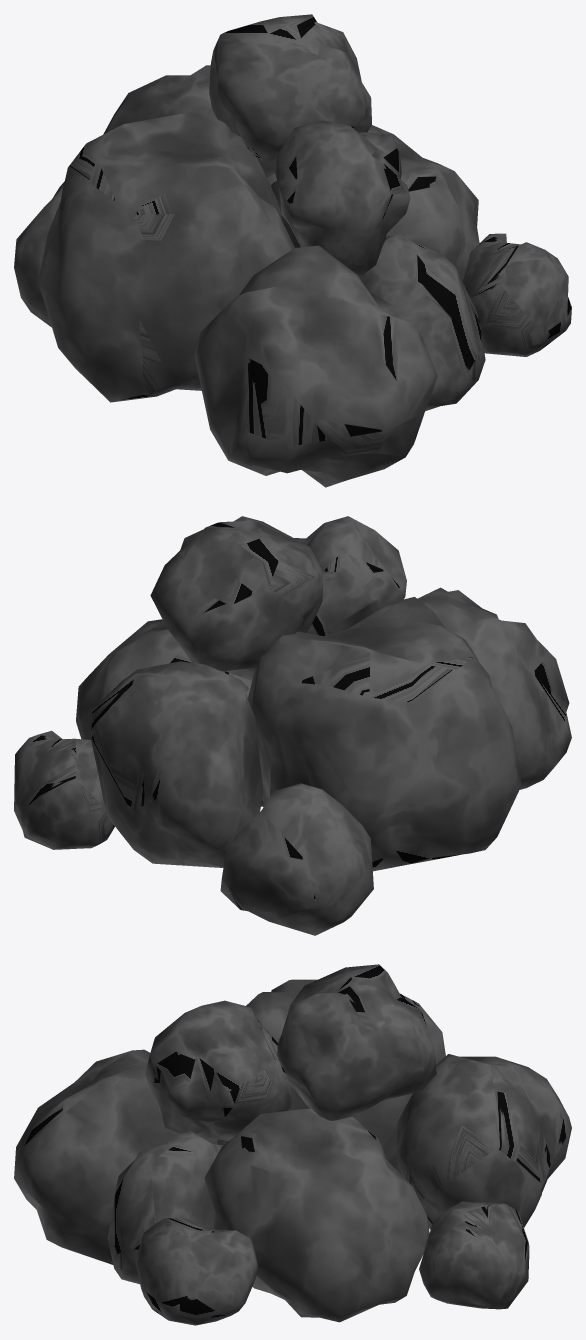
The model's file is boulder1.glb.
3 views of the same model, one above another, from view 1: azimuth 30°, elevation 25°; view 2: azimuth 150°, elevation 25°; view 3: azimuth 270°, elevation 25° (orthographic). The views are drawn at different scales.
Parts seen in each view (by area): view 1: boulder1; view 2: boulder1; view 3: boulder1.
Boxes of the visible parts, <box> form: boulder1: <box>14,14,571,487</box>; boulder1: <box>14,516,571,935</box>; boulder1: <box>14,964,571,1325</box>.
Bounding box in the file's own units: 6.19 × 4.57 × 7.29.
Materials: 1 (1 with a texture image).
